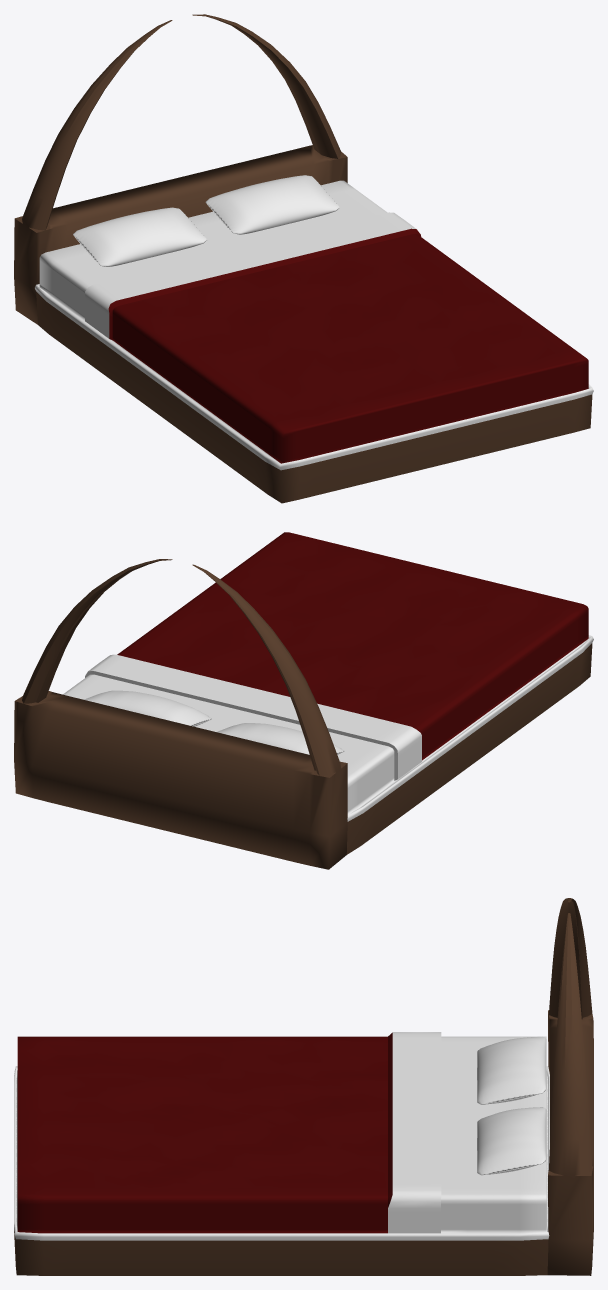
File: bed.fbx
3 views of the same model, one above another, from view 1: azimuth 30°, elevation 25°; view 2: azimuth 150°, elevation 25°; view 3: azimuth 270°, elevation 25° (orthographic). The views are drawn at different scales.
Visible parts, largest first — view 1: pCube1, pasted__pCylinder1, pCylinder1; view 2: pCube1, pasted__pCylinder1, pCylinder1; view 3: pCube1, pCylinder1, pasted__pCylinder1.
Boxes of the visible parts, <box> form: pCube1: <box>14,14,593,503</box>; pasted__pCylinder1: <box>205,175,339,234</box>; pCylinder1: <box>73,207,206,266</box>; pCube1: <box>14,532,593,869</box>; pasted__pCylinder1: <box>84,690,211,726</box>; pCylinder1: <box>216,723,344,754</box>; pCube1: <box>14,898,593,1275</box>; pCylinder1: <box>477,1036,546,1104</box>; pasted__pCylinder1: <box>477,1107,546,1175</box>.
Size of the model in its own units: 8.83 by 7.28 by 12.84.
